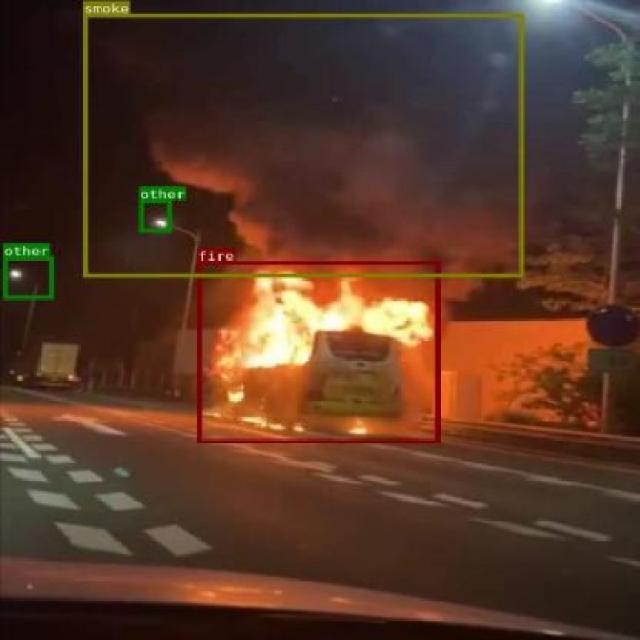Fire: (196, 261, 439, 442)
Smoke: (82, 13, 522, 276)
